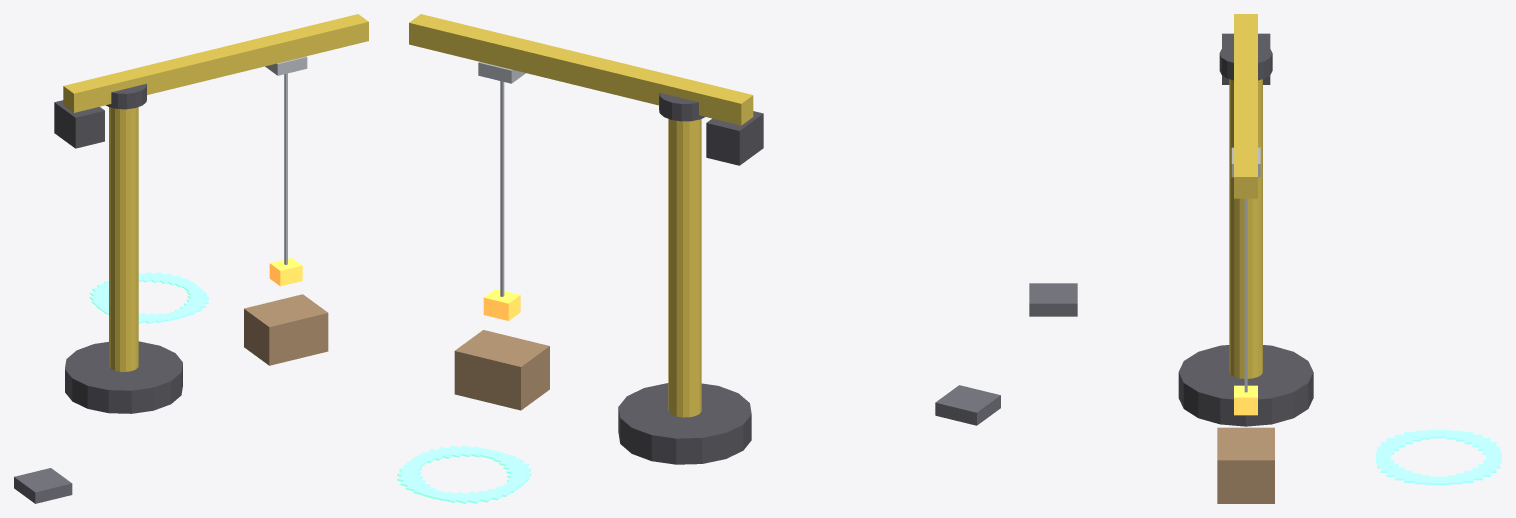
The model's file is wing-robot-rigging-signals.glb.
The picture shows the model from 3 angles, left to right: view 1: azimuth 30°, elevation 25°; view 2: azimuth 150°, elevation 25°; view 3: azimuth 270°, elevation 25°; orthographic projection. The views are drawn at different scales.
Parts seen in each view (by area): view 1: Robot · crane that follows the signalperson; view 2: Robot · crane that follows the signalperson; view 3: Robot · crane that follows the signalperson.
Boxes of the visible parts, x1,y1,x2,y2 form: Robot · crane that follows the signalperson: (14,14,368,503); Robot · crane that follows the signalperson: (397,14,1000,503); Robot · crane that follows the signalperson: (1029,14,1501,503).
Size of the model in its own units: 11.5 by 8.1 by 9.81.
